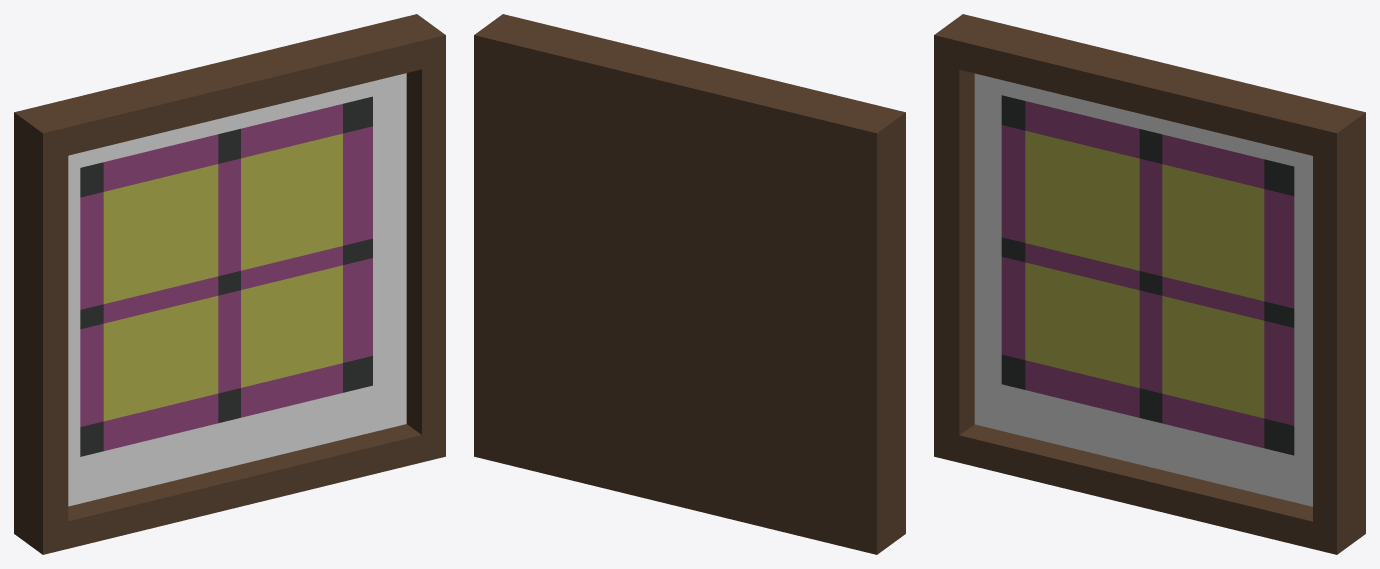
File: painting2.fbx
The picture shows the model from 3 angles, left to right: view 1: azimuth 30°, elevation 25°; view 2: azimuth 150°, elevation 25°; view 3: azimuth 330°, elevation 25°; orthographic projection.
Visible parts, largest first — view 1: pCube1; view 2: pCube1; view 3: pCube1.
Part boxes in pixels (bbox=[...]): pCube1: bbox=[14, 14, 445, 554]; pCube1: bbox=[474, 14, 905, 554]; pCube1: bbox=[934, 14, 1365, 554].
Size of the model in its own units: 4.98 by 4.98 by 0.6164.
